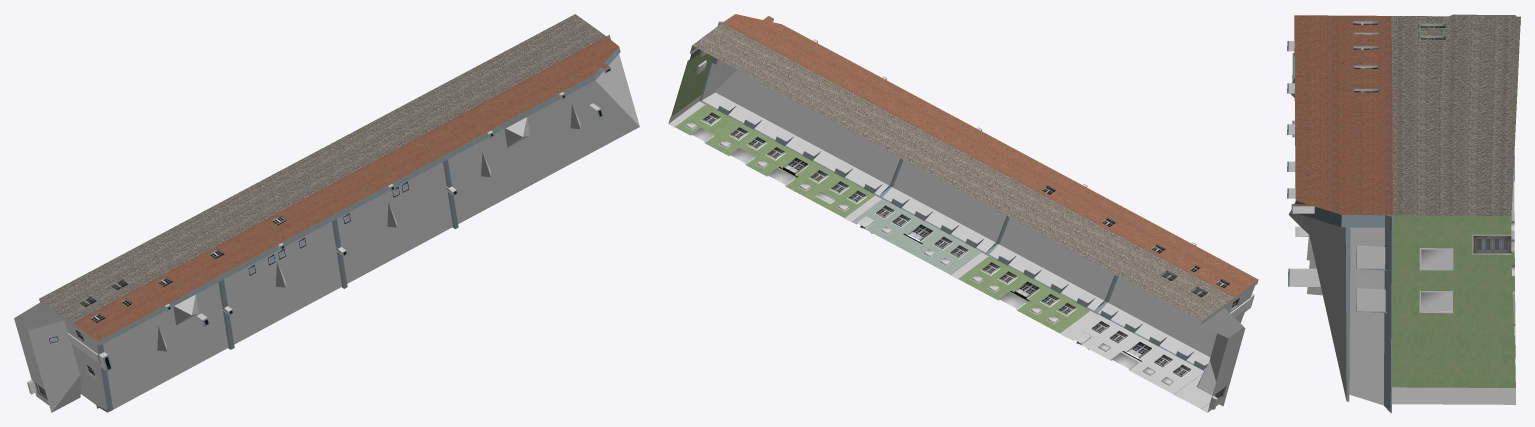
Rendered from Toompuiestee_20_1.obj.
The picture shows the model from 3 angles, left to right: view 1: azimuth 30°, elevation 25°; view 2: azimuth 150°, elevation 25°; view 3: azimuth 270°, elevation 25°; orthographic projection. The views are drawn at different scales.
Visible parts, largest first — view 1: Toompuiestee_20; view 2: Toompuiestee_20; view 3: Toompuiestee_20.
Part boxes in pixels (x1,y1,x2,y2): Toompuiestee_20: [14, 14, 639, 412]; Toompuiestee_20: [668, 14, 1258, 412]; Toompuiestee_20: [1287, 14, 1520, 412].
Bounding box in the file's own units: 73.58 × 30.73 × 13.22.
